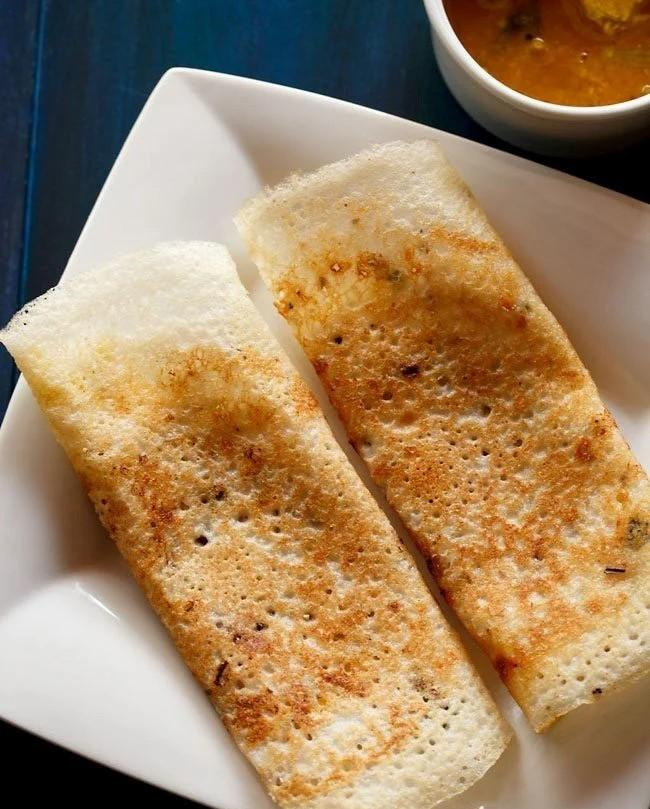Dosa: (0, 239, 514, 808), (235, 140, 650, 730)
